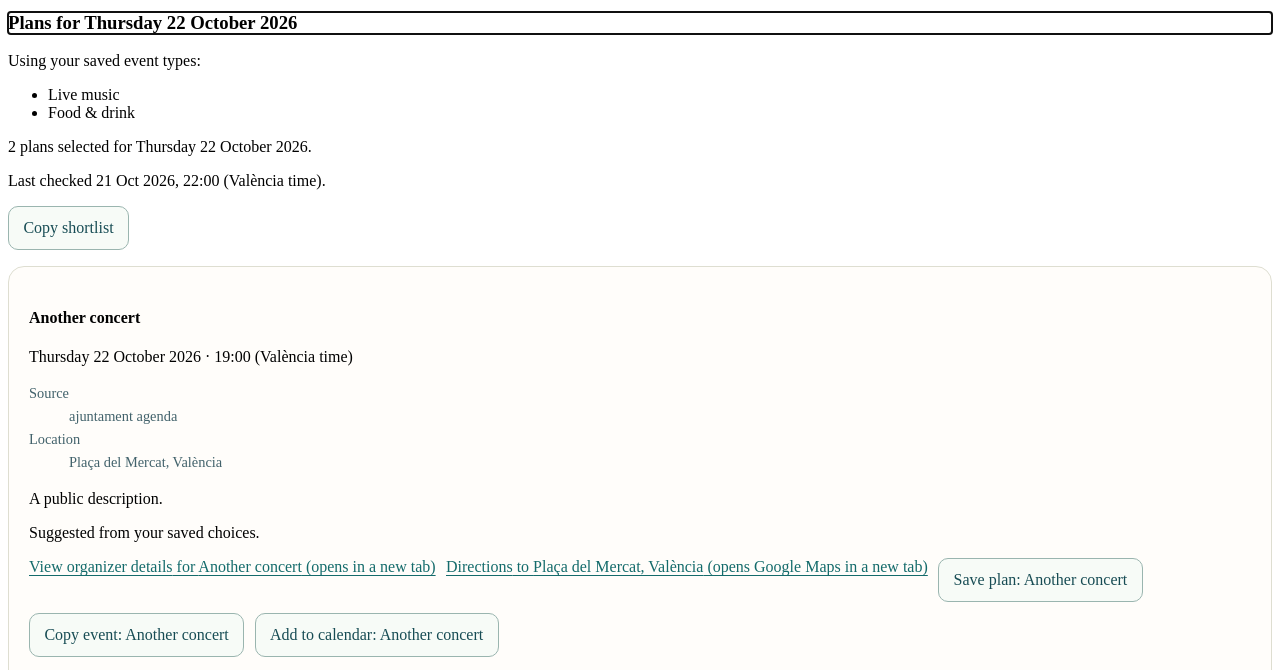
Test: recommendation-first planning preview › announces copy and save failures without exposing raw errors
What coordinates should you click on to do the following:
click the button "Copy shortlist"
I would click on:
 (68, 228)
Its box is [8,206,129,250].
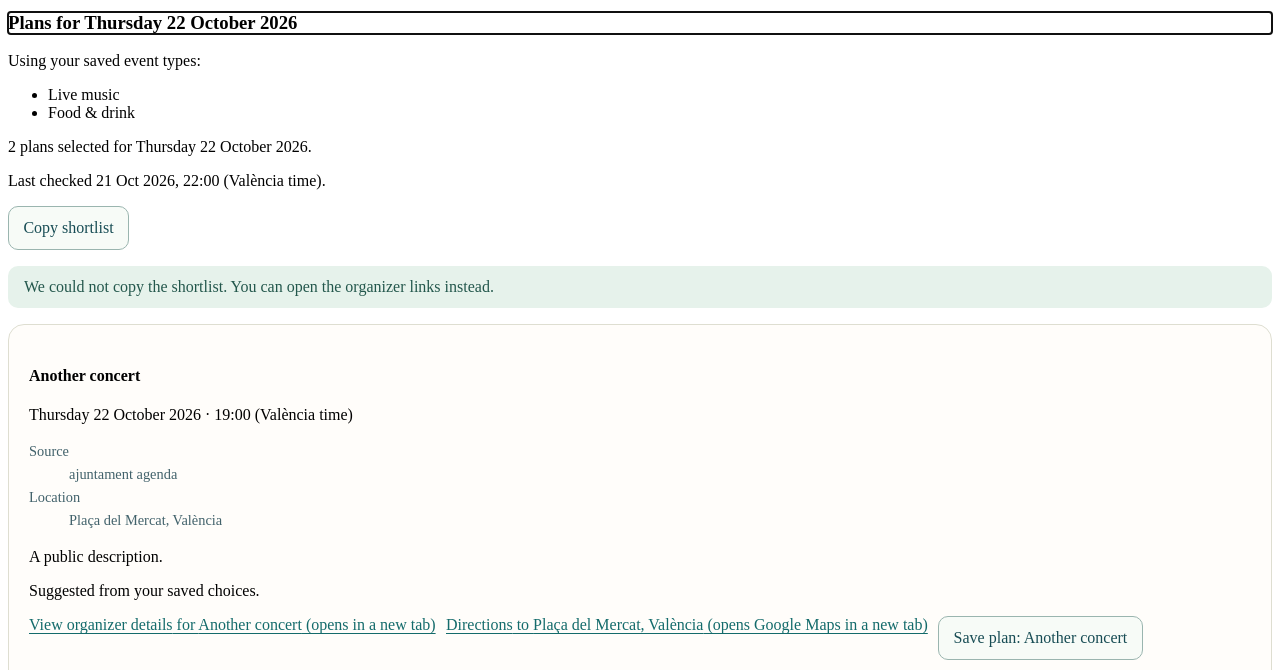
Result: the message "We could not copy the shortlist. You can open the organizer links instead." is shown at [8,266,1272,308]
What coordinates should you click on to do the following:
click the button "Save plan: Another concert"
I would click on:
 (1040, 638)
Its box is [938,616,1143,660].
(page scrolled)
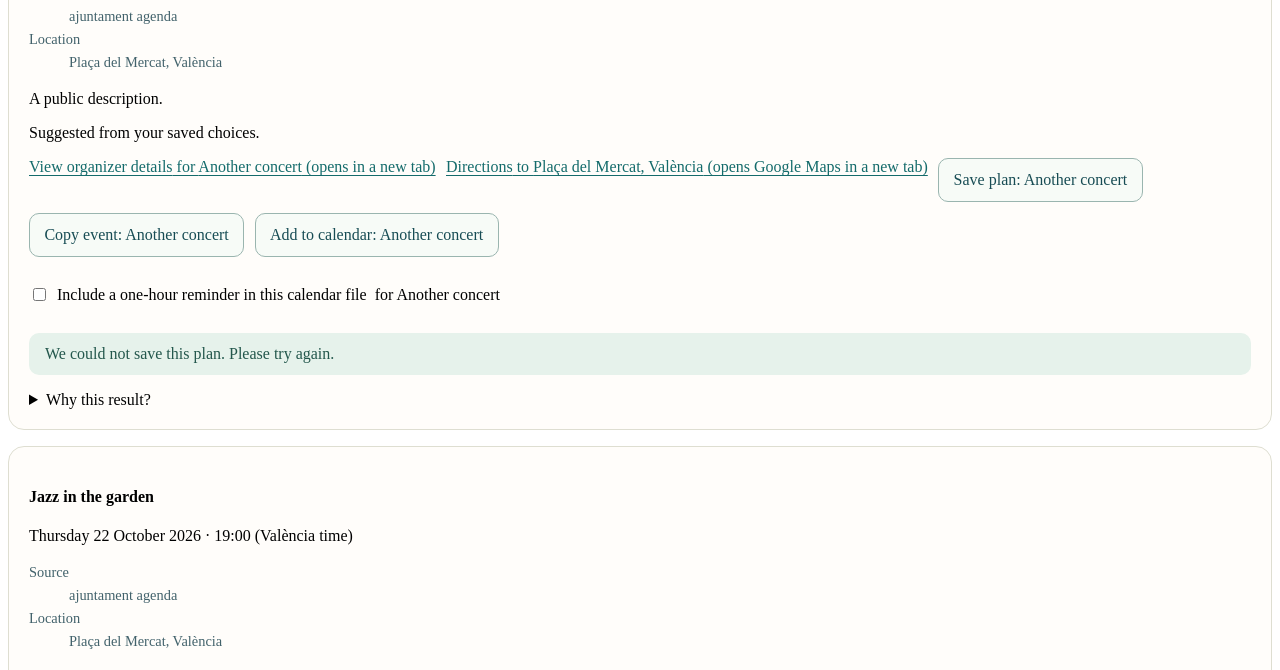
Result: the message "We could not save this plan. Please try again." is shown at [29,332,1251,374]
